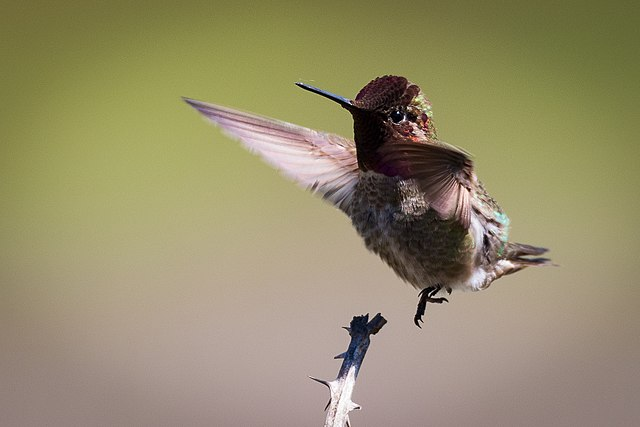calypte anna: (179, 68, 563, 324)
